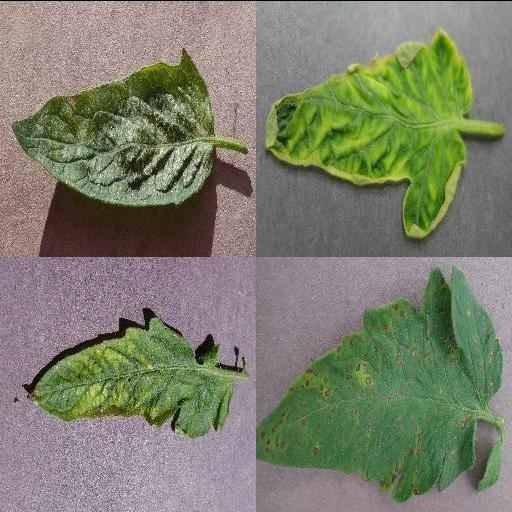Mosaic Virus: (25, 316, 235, 438)
Septoria: (256, 266, 504, 500)
Spider Mites: (10, 49, 214, 203)
Yellow Leaf Curl Virus: (265, 27, 473, 239)
